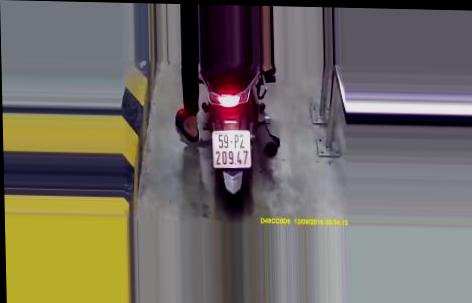License_Plate: (208, 128, 253, 171)
